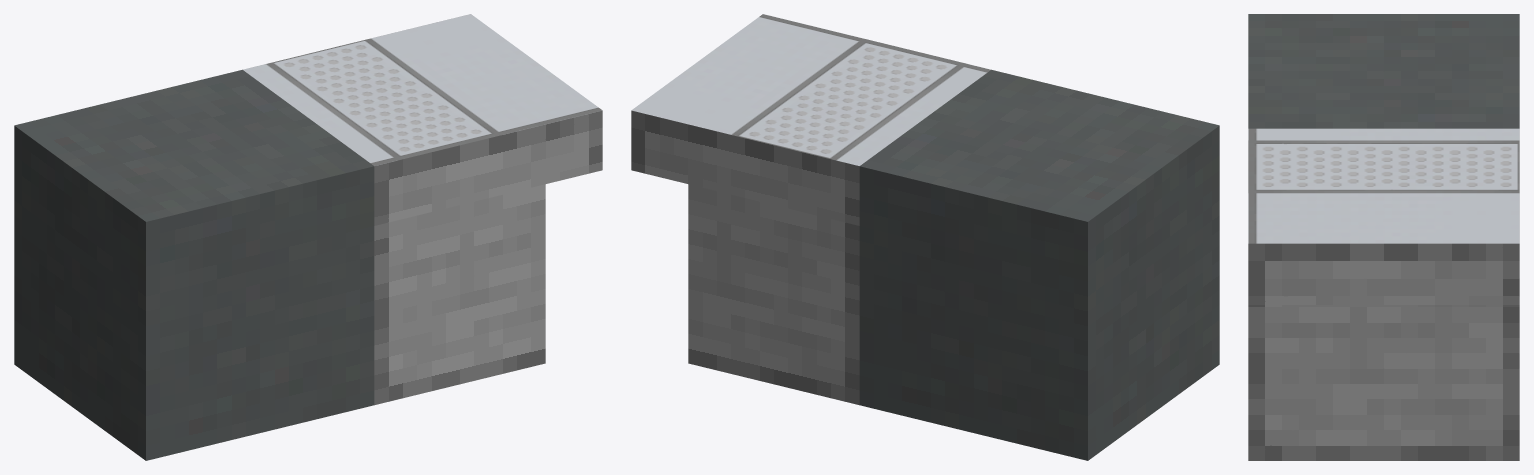
Rendered from sncf_platform.obj.
3 renders of one model, left to right at view 1: azimuth 30°, elevation 25°; view 2: azimuth 150°, elevation 25°; view 3: azimuth 270°, elevation 25°, orthographic. The views are drawn at different scales.
Visible parts, largest first — view 1: cube; view 2: cube; view 3: cube.
Boxes of the visible parts, x1,y1,x2,y2 form: cube: (14, 14, 602, 460); cube: (631, 14, 1219, 460); cube: (1248, 14, 1519, 460).
Size of the model in its own units: 2 by 1 by 1.
4 materials, 3 textured.
